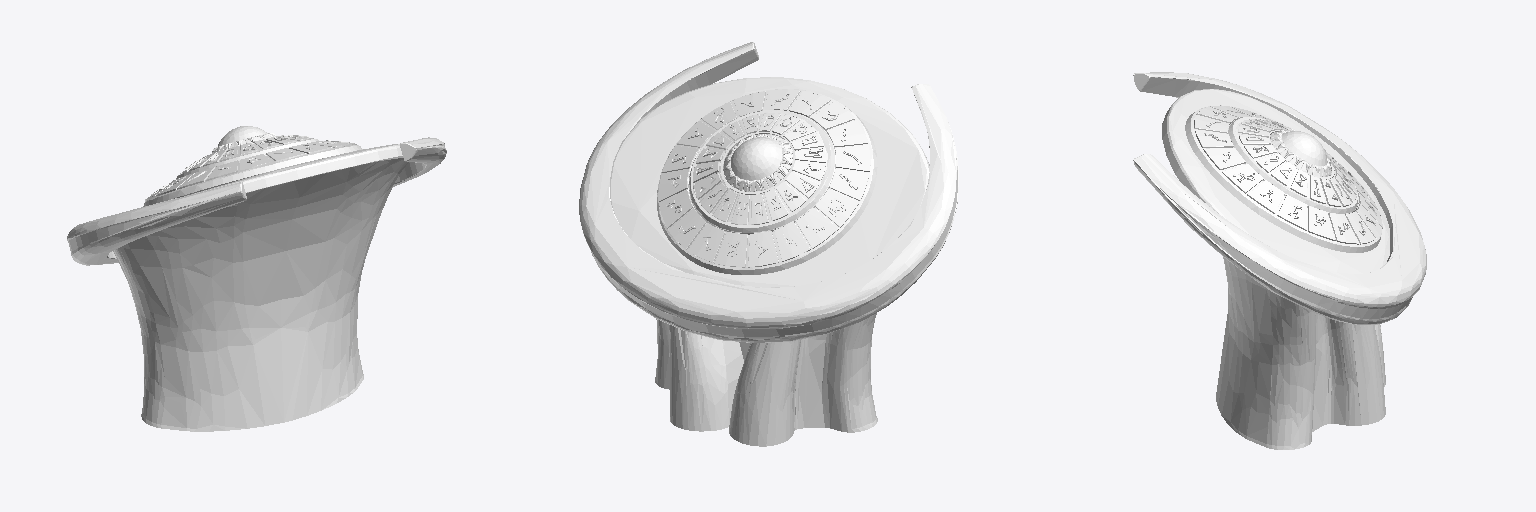
The model's file is dhd_handheld_pegasus.obj.
3 renders of one model, left to right at view 1: azimuth 30°, elevation 25°; view 2: azimuth 150°, elevation 25°; view 3: azimuth 270°, elevation 25°, orthographic.
Visible parts, largest first — view 1: DHD_DHD_symbols_outer_Cylinder.001; view 2: DHD_DHD_symbols_outer_Cylinder.001; view 3: DHD_DHD_symbols_outer_Cylinder.001.
Part boxes in pixels (x1,y1,x2,y2): DHD_DHD_symbols_outer_Cylinder.001: (67,126,446,431); DHD_DHD_symbols_outer_Cylinder.001: (579,42,958,446); DHD_DHD_symbols_outer_Cylinder.001: (1133,72,1426,449).
Bounding box in the file's own units: 2.02 × 1.58 × 1.47.